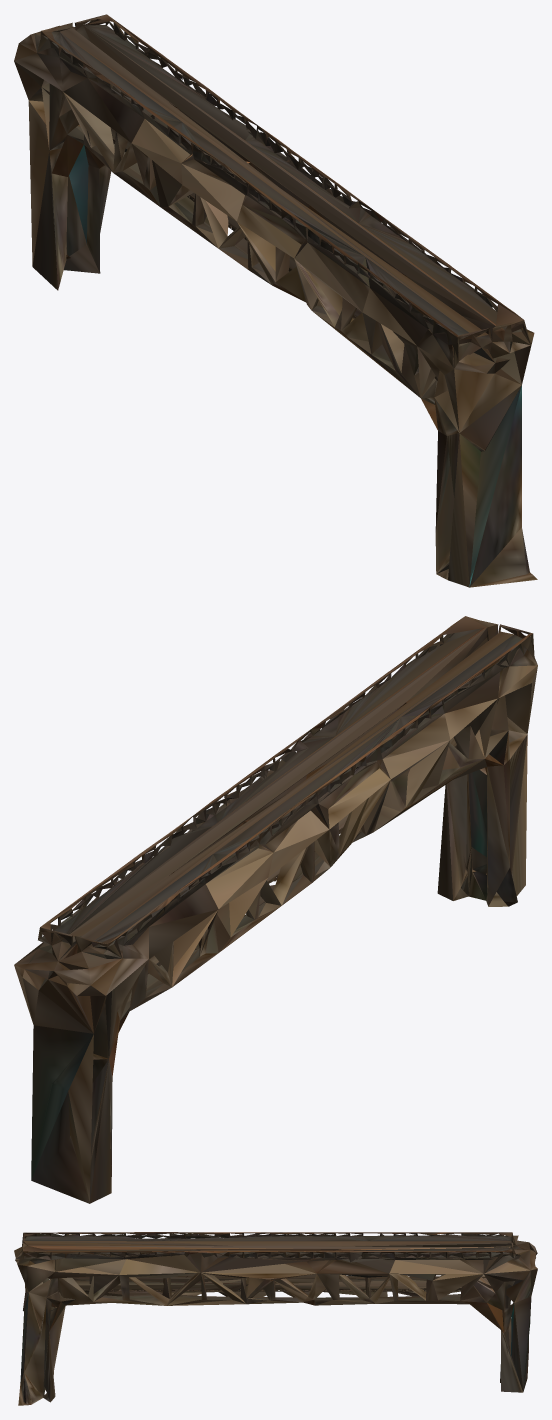
The picture shows the model from 3 angles, top to bottom: view 1: azimuth 30°, elevation 25°; view 2: azimuth 150°, elevation 25°; view 3: azimuth 270°, elevation 25°; orthographic projection. The views are drawn at different scales.
Visible parts, largest first — view 1: f03; view 2: f03; view 3: f03.
Boxes of the visible parts, left/top/right/bottom form: f03: left=14, top=14, right=537, bottom=587; f03: left=14, top=616, right=537, bottom=1203; f03: left=14, top=1232, right=537, bottom=1405.
Size of the model in its own units: 2.81 by 7.47 by 23.31.
Materials: 1 (1 with a texture image).
